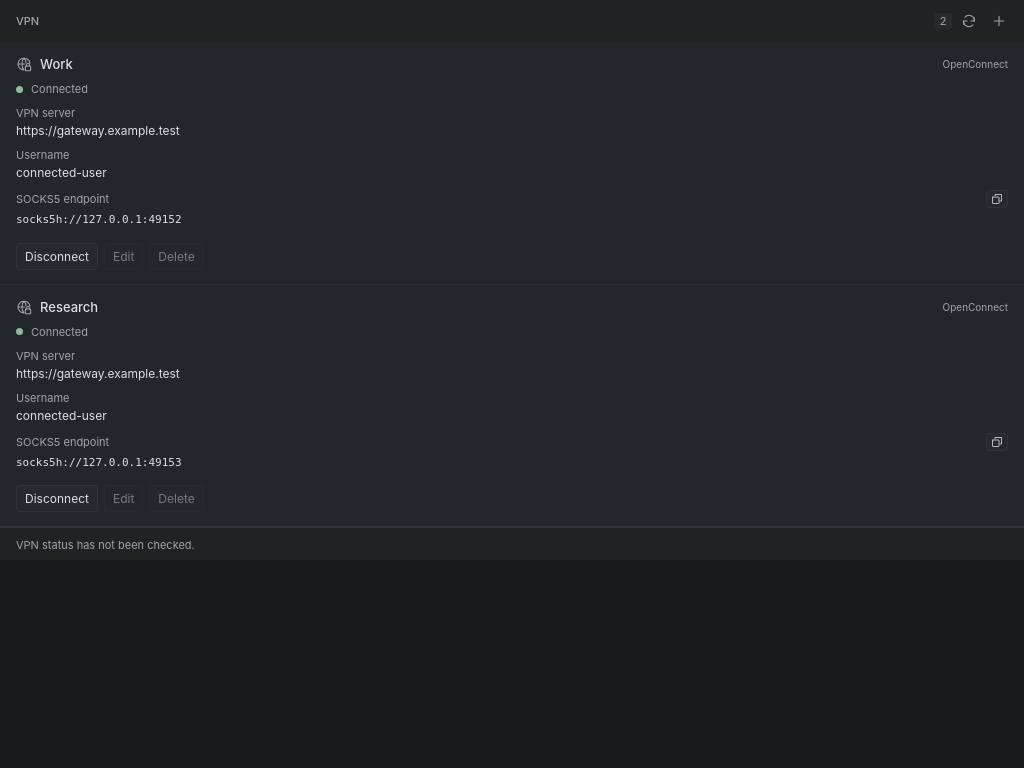
VPN sidebar › reports copy failures only on the endpoint's item
Click the 2nd button named "Copy SOCKS endpoint" at coordinates (997, 442), box [986,432,1008,450]
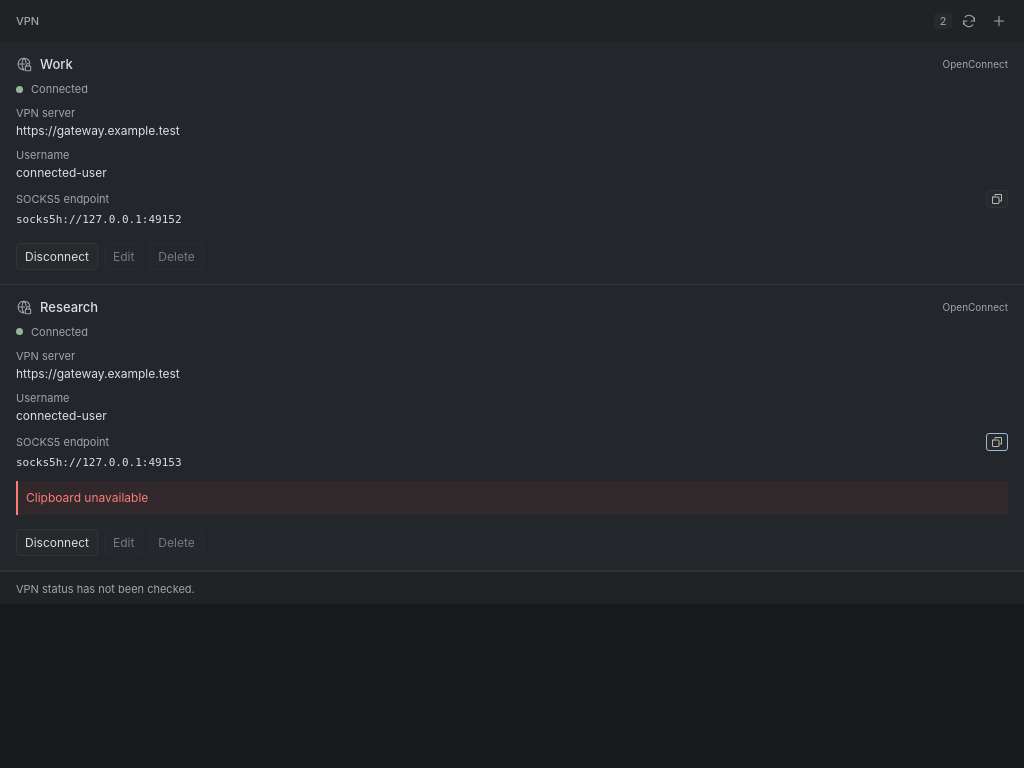
Expected: the message reads "Clipboard unavailable", [26,490,148,505]
